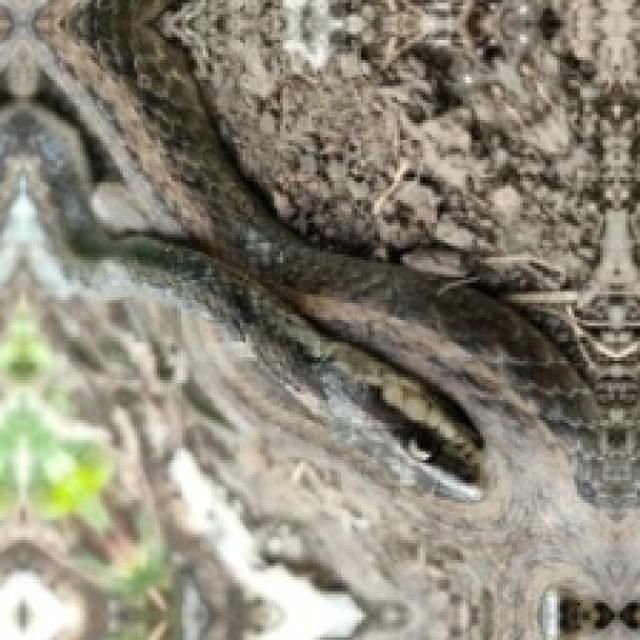boies keelback: (1, 0, 601, 520)
